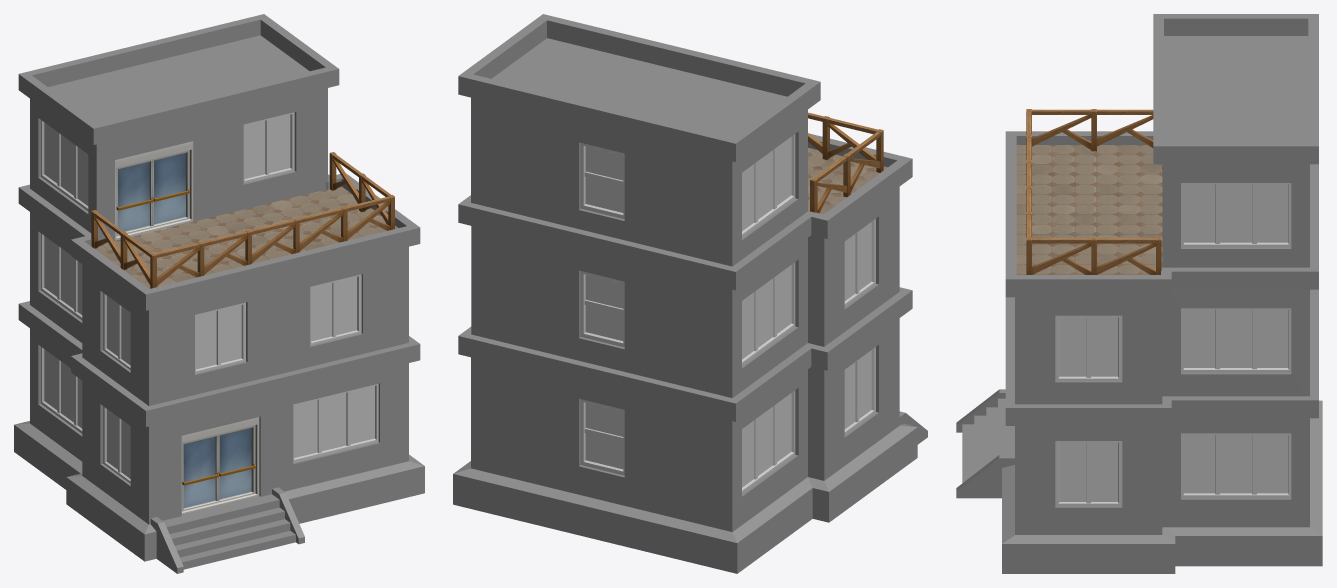
File: Building_10.FBX
The picture shows the model from 3 angles, left to right: view 1: azimuth 30°, elevation 25°; view 2: azimuth 150°, elevation 25°; view 3: azimuth 270°, elevation 25°; orthographic projection. The views are drawn at different scales.
Visible parts, largest first — view 1: Walls_2, Decor, Windows, Walls_1, Doors, Plinth, Roof, Floor, Stairs, Fencing; view 2: Walls_2, Decor, Walls_1, Windows, Plinth, Roof, Fencing, Floor; view 3: Windows, Decor, Walls_2, Walls_1, Floor, Roof, Plinth, Fencing, Stairs.
Part boxes in pixels (left/top/right/bottom): Walls_2: left=30, top=88, right=408, bottom=405; Decor: left=18, top=14, right=420, bottom=426; Windows: left=41, top=112, right=378, bottom=483; Walls_1: left=30, top=328, right=408, bottom=524; Doors: left=115, top=141, right=259, bottom=514; Plinth: left=14, top=421, right=424, bottom=561; Roof: left=48, top=35, right=309, bottom=123; Floor: left=95, top=186, right=398, bottom=288; Stairs: left=150, top=487, right=304, bottom=573; Fencing: left=91, top=152, right=394, bottom=288; Walls_2: left=471, top=97, right=899, bottom=397; Decor: left=458, top=14, right=912, bottom=421; Walls_1: left=471, top=318, right=899, bottom=531; Windows: left=580, top=134, right=875, bottom=493; Plinth: left=453, top=424, right=917, bottom=573; Roof: left=492, top=38, right=786, bottom=137; Fencing: left=808, top=112, right=883, bottom=213; Floor: left=808, top=148, right=887, bottom=214; Windows: left=1055, top=183, right=1291, bottom=506; Decor: left=1005, top=14, right=1318, bottom=425; Walls_2: left=1015, top=164, right=1309, bottom=404; Walls_1: left=1015, top=418, right=1309, bottom=534; Floor: left=1016, top=145, right=1162, bottom=274; Roof: left=1164, top=36, right=1308, bottom=141; Plinth: left=1002, top=400, right=1322, bottom=573; Fencing: left=1026, top=109, right=1161, bottom=274; Stairs: left=956, top=389, right=1014, bottom=498.
Size of the model in its own units: 970 by 1252 by 995.
